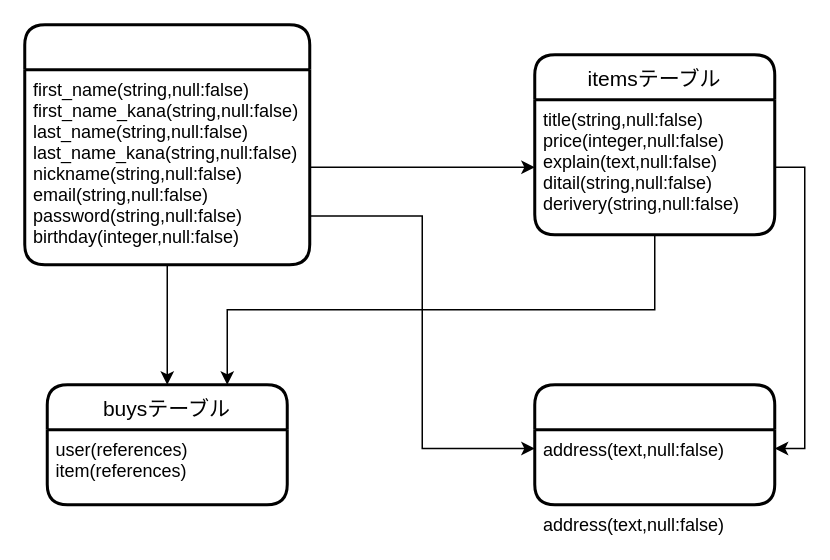
The diagram is 830 pixels wide and 560 high, and some of its shapes have lost their labels. Here are the shapes that lost their labels. From the top down, the box of each, then its label:
(22, 22, 310, 266): usersテーブル
(532, 382, 776, 506): addressesテーブル
